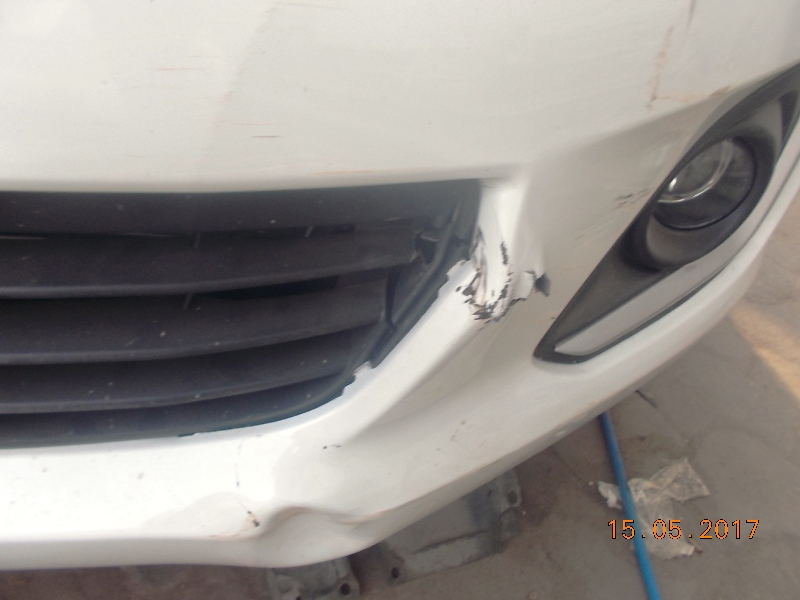Dent: (258, 501, 355, 562)
Scratch_or_spot: (468, 241, 506, 323)
Tear: (511, 260, 551, 305)
